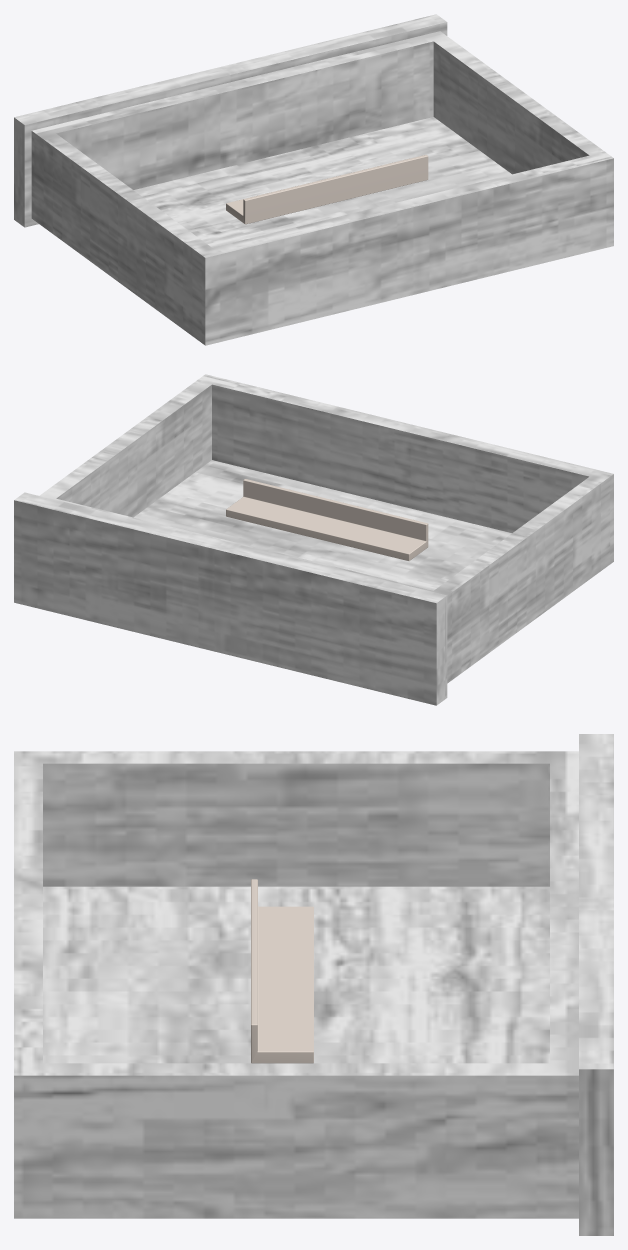
The model's file is Drawer_84d0de6c.obj.
3 views of the same model, one above another, from view 1: azimuth 30°, elevation 25°; view 2: azimuth 150°, elevation 25°; view 3: azimuth 270°, elevation 25° (orthographic). The views are drawn at different scales.
Visible parts, largest first — view 1: Mesh_01_7aed5e00, handle_3_178mm_01_83f82603; view 2: Mesh_01_7aed5e00, handle_3_178mm_01_83f82603; view 3: Mesh_01_7aed5e00, handle_3_178mm_01_83f82603.
Boxes of the visible parts, box(x1,y1,x2,y2) form: Mesh_01_7aed5e00: box(14, 14, 613, 345); handle_3_178mm_01_83f82603: box(226, 154, 428, 224); Mesh_01_7aed5e00: box(14, 374, 613, 705); handle_3_178mm_01_83f82603: box(226, 479, 428, 560); Mesh_01_7aed5e00: box(14, 734, 613, 1235); handle_3_178mm_01_83f82603: box(251, 879, 313, 1063).
Size of the model in its own units: 0.41 by 0.095 by 0.31.
